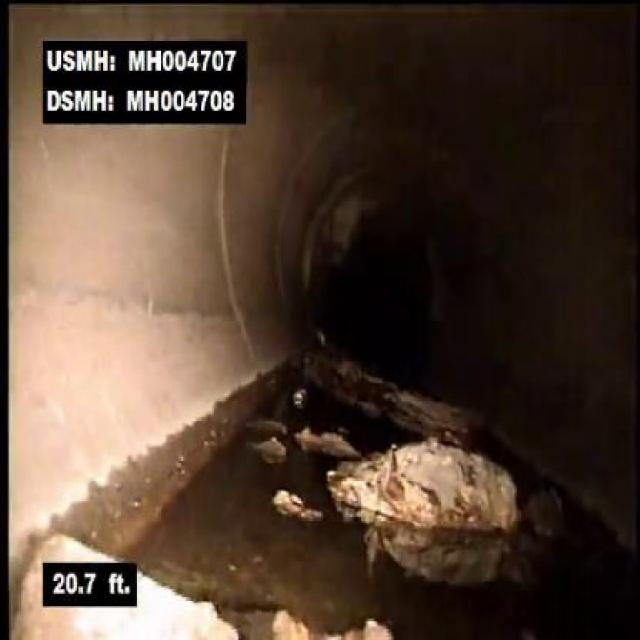Obstacle: (317, 420, 523, 555)
